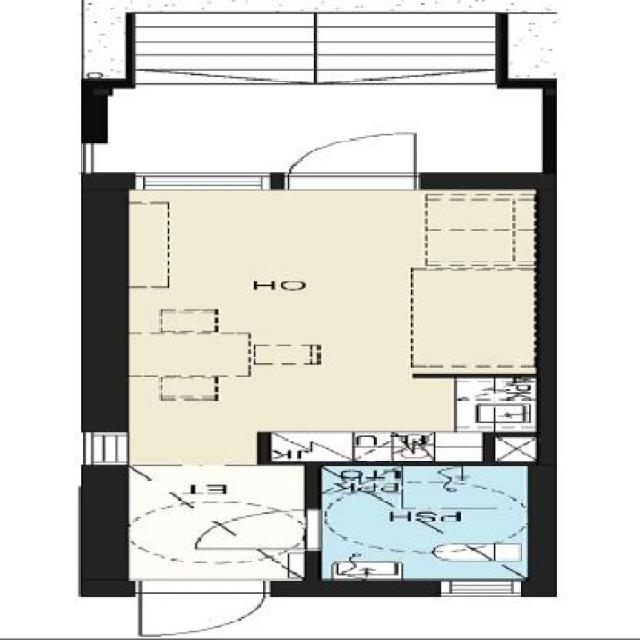door: (282, 128, 416, 190), (132, 577, 272, 635), (188, 508, 317, 549)
window: (85, 429, 132, 468), (142, 177, 263, 189), (435, 580, 520, 595)
zone: (133, 186, 542, 460), (88, 8, 549, 172), (325, 466, 529, 579), (137, 463, 295, 580)
